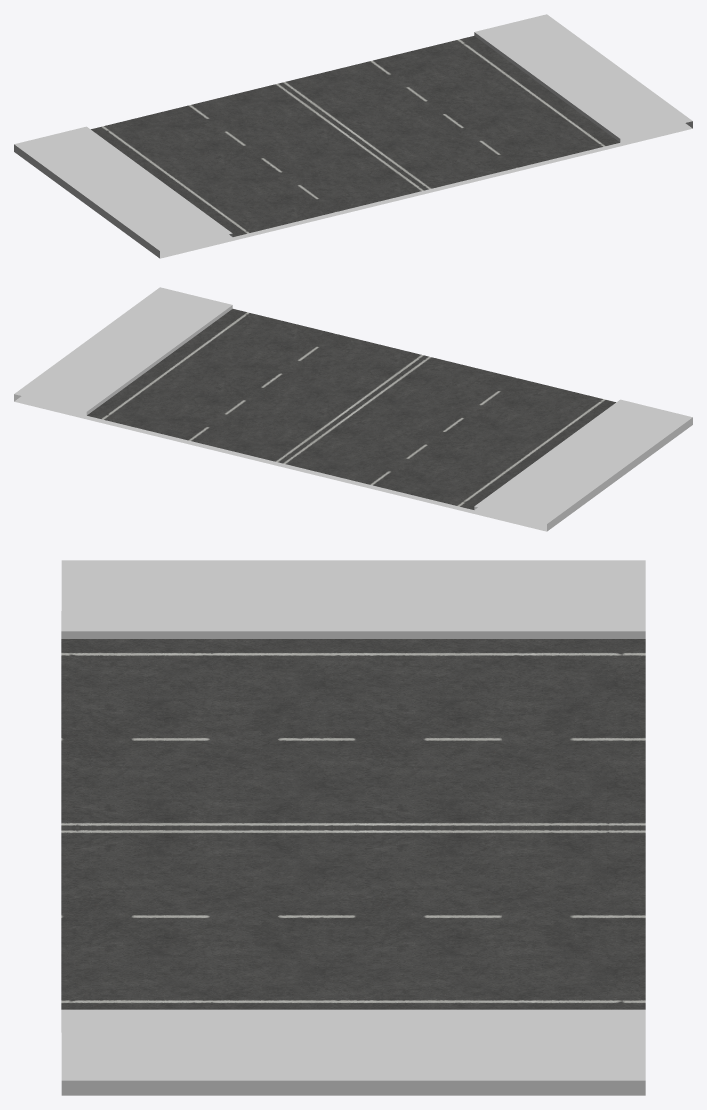
The model's file is Straight 4 Lane - Scaled.fbx.
3 renders of one model, top to bottom at view 1: azimuth 30°, elevation 25°; view 2: azimuth 150°, elevation 25°; view 3: azimuth 270°, elevation 25°, orthographic. The views are drawn at different scales.
Parts seen in each view (by area): view 1: Plane; view 2: Plane; view 3: Plane.
Part boxes in pixels (<box>): Plane: <box>14,14,692,258</box>; Plane: <box>14,287,692,531</box>; Plane: <box>61,560,645,1095</box>.
Bounding box in the file's own units: 2948 × 40 × 1400.
